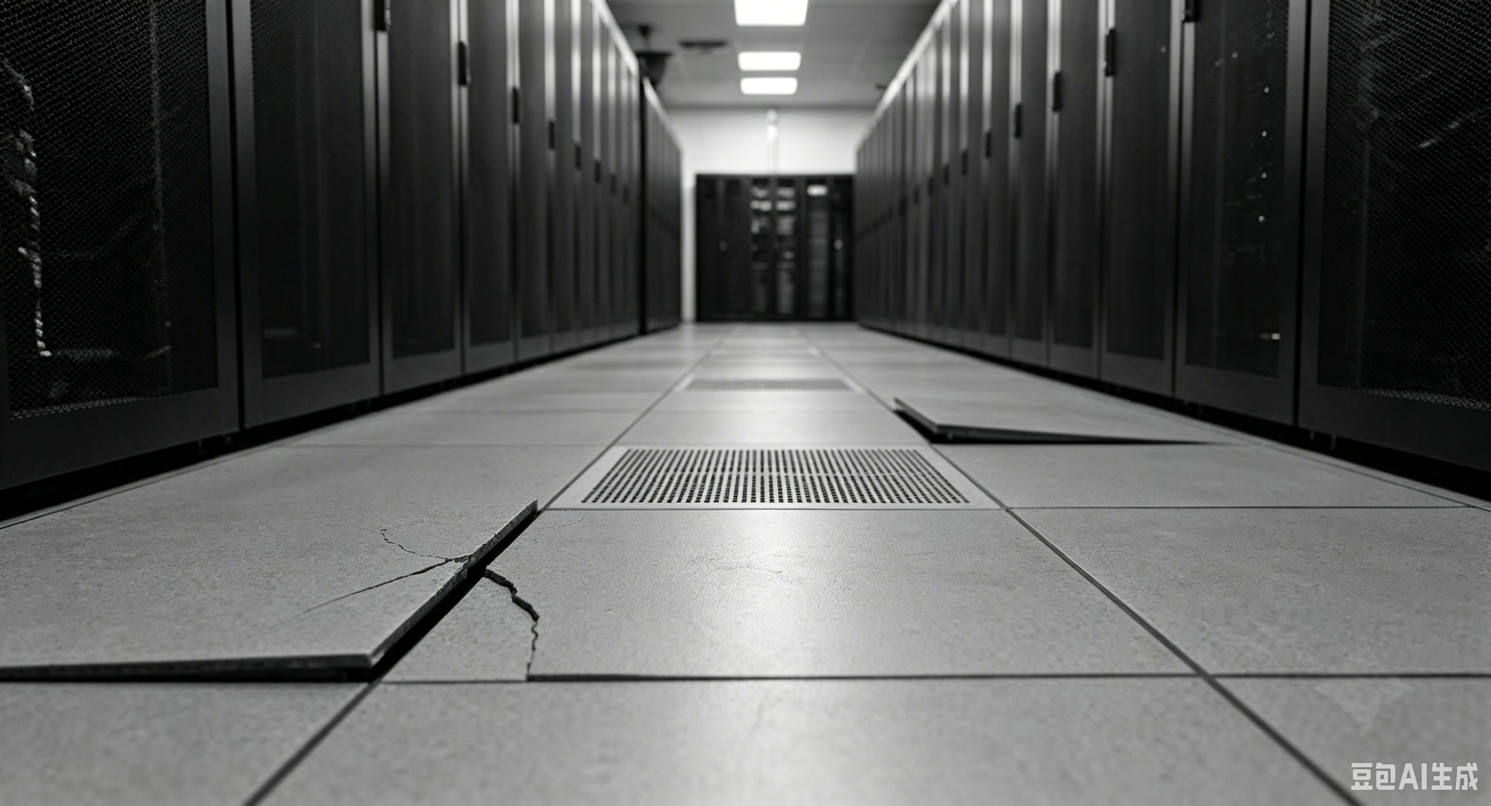floor_defect: (1, 640, 406, 714), (878, 377, 1245, 458), (460, 558, 652, 689), (320, 561, 460, 613), (336, 610, 462, 661), (456, 495, 564, 553), (374, 513, 453, 565)
